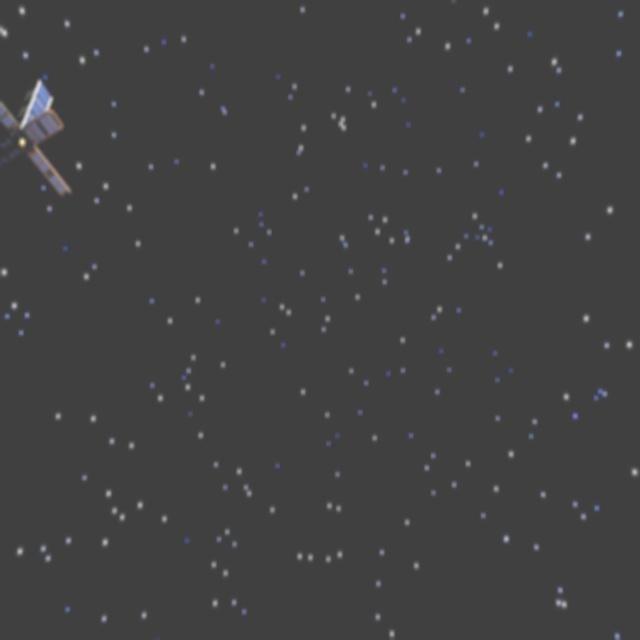satellite: (0, 67, 71, 206)
